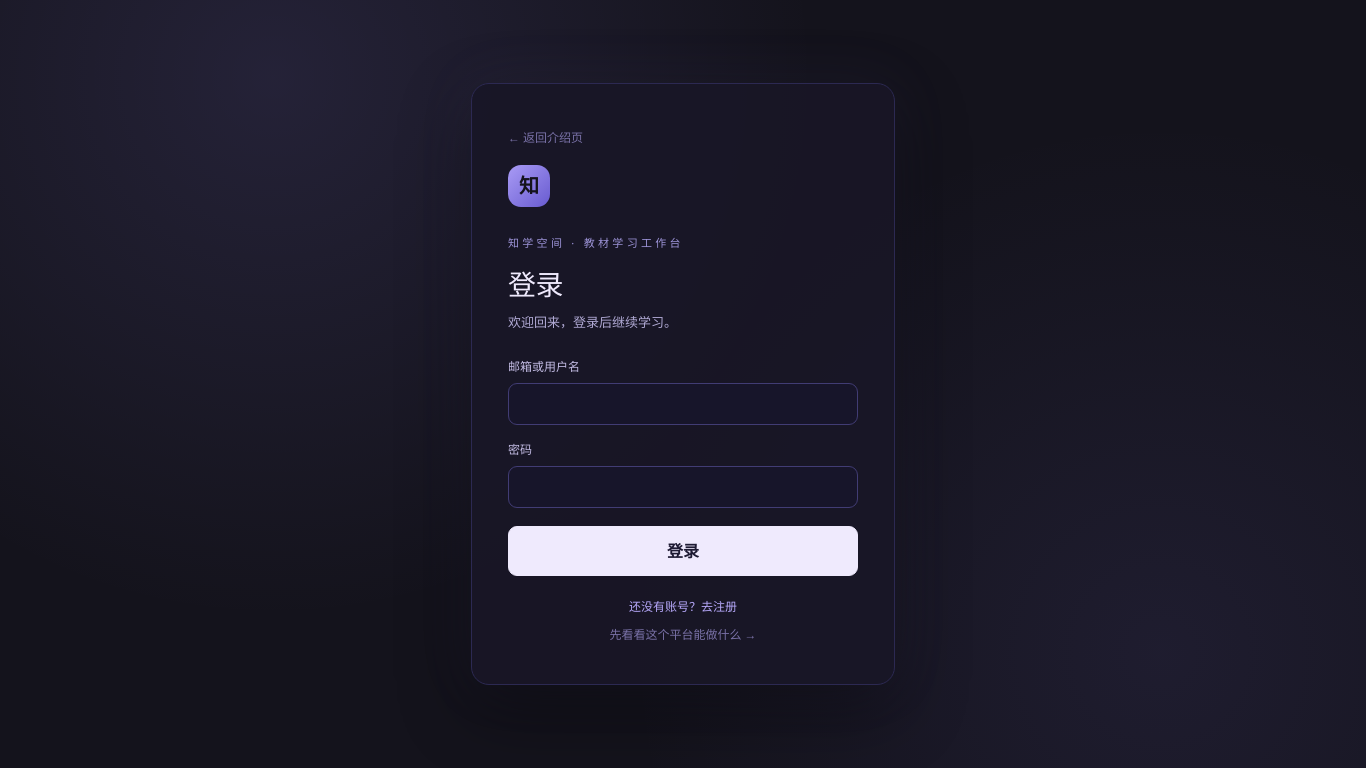
Scenario: HomePage › opens the workspace after logging in from the anonymous home page
The width and height of the screenshot is (1366, 768).
Type "learner@example.com" into the field labelled "邮箱或用户名" at (683, 404), box [508,383,858,425]
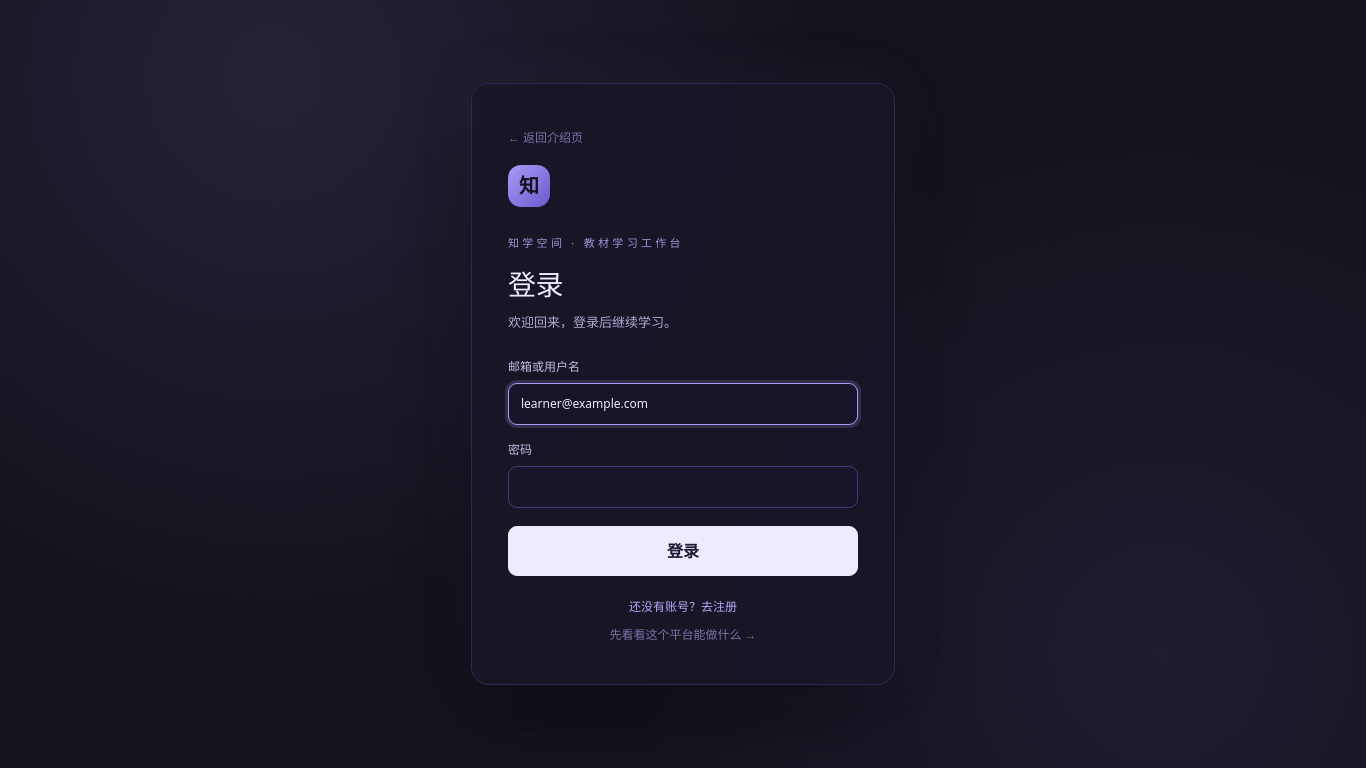
Type "correct horse battery staple 9" into the password field labelled "密码" at (683, 487), box [508,466,858,508]
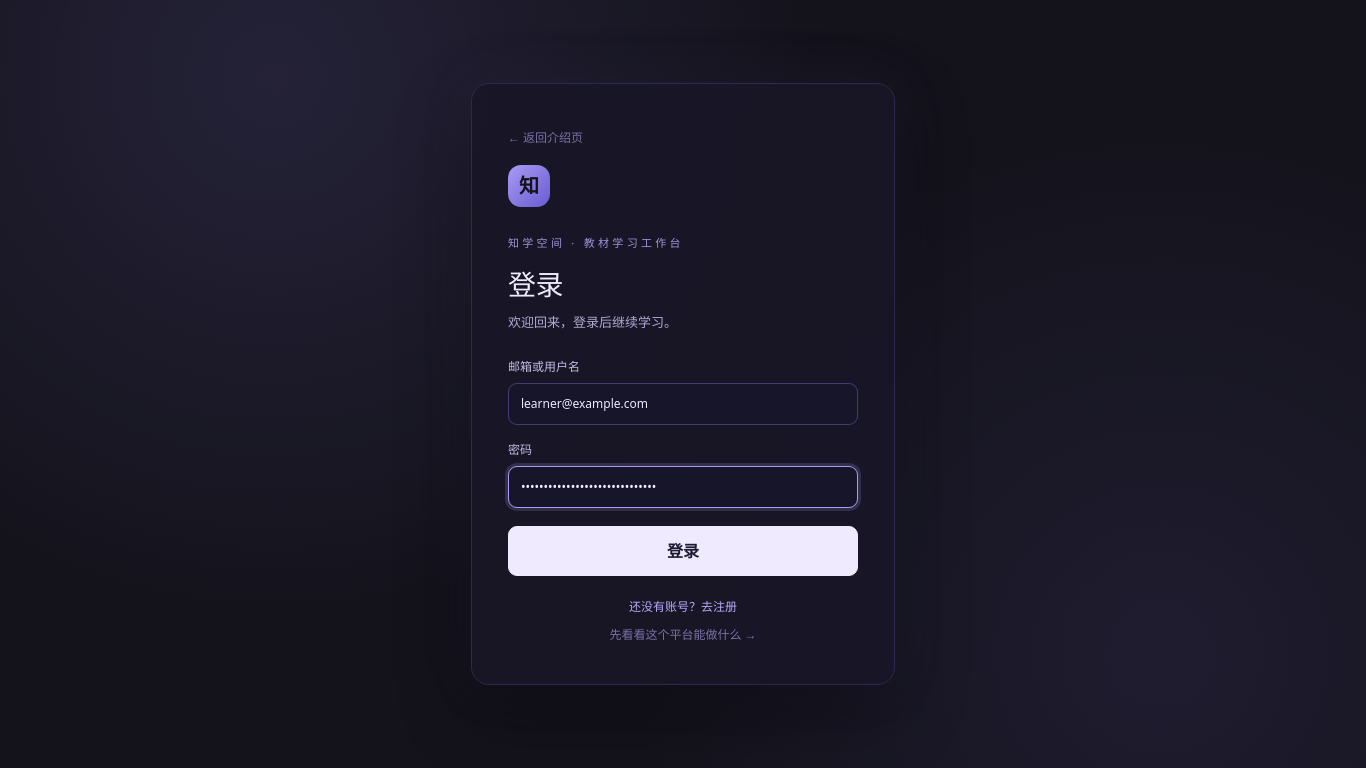
Click the button "登录" at (683, 551), box [508,526,858,576]
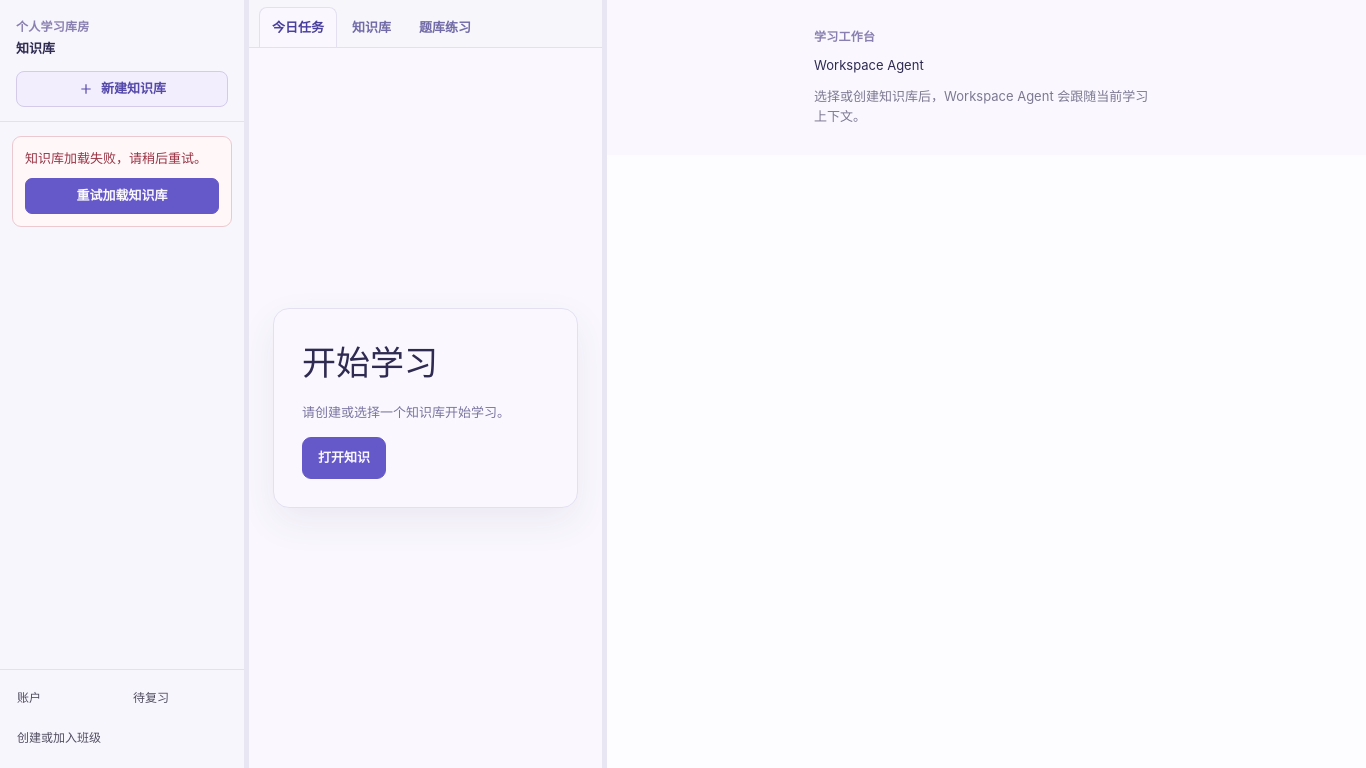
Result: the element named "学习工作区" is shown
